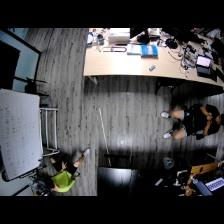normal: (35, 148, 91, 191), (161, 105, 224, 140)
